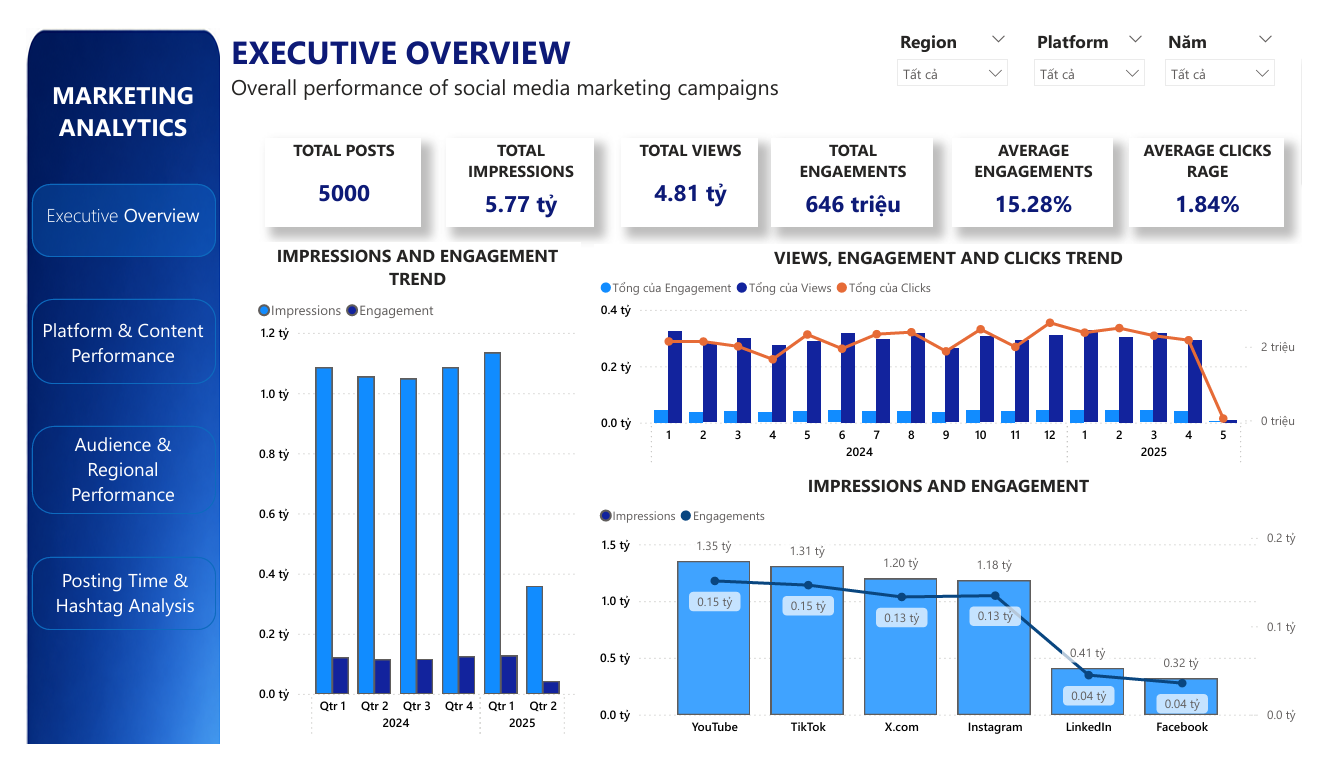

The dashboard page shown, as its layout file describes it:
{"tool":"powerbi","page":{"name":"Executive Overview","canvas":[1280,720],"ordinal":0},"visuals":[{"type":"card","title":"TOTAL POSTS","fields":{"Values":["Sheet1.Total Posts"]},"box":[244.2,115.4,155.8,88.5],"z":0},{"type":"card","title":"TOTAL IMPRESSIONS","fields":{"Values":["Sum(Sheet1.Impressions)"]},"box":[425,115.4,148.1,88.5],"z":1000},{"type":"card","title":"TOTAL VIEWS","fields":{"Values":["Sum(Sheet1.Views)"]},"box":[600,115.4,136.5,88.5],"z":2000},{"type":"card","title":"TOTAL ENGAEMENTS","fields":{"Values":["Sum(Sheet1.Engagement)"]},"box":[750,115.4,161.5,88.5],"z":3000},{"type":"card","title":"AVERAGE ENGAGEMENTS","fields":{"Values":["Sheet1.Average Engagement Rate"]},"box":[930.8,115.4,161.5,88.5],"z":4000},{"type":"card","title":"AVERAGE CLICKS RAGE","fields":{"Values":["Sheet1.Average CTR"]},"box":[1107.7,115.4,155.8,88.5],"z":5000},{"type":"clusteredColumnChart","title":"IMPRESSIONS AND ENGAGEMENT TREND","fields":{"Category":["Sheet1.Post_Published_At.Biến động.Phân cấp ngày tháng.Năm","Sheet1.Post_Published_At.Biến động.Phân cấp ngày tháng.Quý"],"Y":["Sum(Sheet1.Impressions)","Sum(Sheet1.Engagement)"]},"box":[230.8,219.2,328.8,501.9],"z":6000},{"type":"lineClusteredColumnComboChart","title":"IMPRESSIONS AND ENGAGEMENT ","fields":{"Category":["Sheet1.Platform"],"Y":["Sum(Sheet1.Impressions)"],"Y2":["Sum(Sheet1.Engagement)"]},"box":[573.1,448.9,707.3,271.7],"z":8000},{"type":"slicer","fields":{"Values":["Sheet1.Region"]},"box":[865.4,0,130.8,88.5],"z":9000},{"type":"slicer","fields":{"Values":["Sheet1.Platform"]},"box":[1001.9,0,130.8,88.5],"z":10000},{"type":"slicer","fields":{"Values":["Sheet1.Post_Published_At.Biến động.Phân cấp ngày tháng.Năm"]},"box":[1132.7,0,130.8,88.5],"z":11000},{"type":"textbox","box":[203.7,0,660.9,104.4],"z":12000},{"type":"image","box":[0,0,203.6,800],"z":13000},{"type":"textbox","box":[9.6,0,182.7,138.5],"z":14000},{"type":"shape","box":[9.6,159.6,184.6,73.1],"z":15000},{"type":"shape","box":[9.6,275,184.6,84.6],"z":16000},{"type":"shape","box":[9.6,401.9,184.6,88.5],"z":17000},{"type":"shape","box":[9.6,532.7,184.6,73.1],"z":18000},{"type":"textbox","box":[9.6,173.1,182.7,59.6],"z":19000},{"type":"textbox","box":[9.6,288.5,182.7,59.6],"z":20000},{"type":"textbox","box":[9.6,401.9,182.7,88.5],"z":21000},{"type":"textbox","box":[11.5,538.5,182.7,59.6],"z":22000},{"type":"lineClusteredColumnComboChart","title":"VIEWS, ENGAGEMENT AND CLICKS TREND","fields":{"Y":["Sum(Sheet1.Engagement)","Sum(Sheet1.Views)"],"Y2":["Sum(Sheet1.Clicks)"],"Category":["Sheet1.Post_Published_At.Biến động.Phân cấp ngày tháng.Năm","Sheet1.Month Number"]},"box":[573.2,221.4,707.1,228.6],"z":23000}]}

Visuals, with their boxes on the page's 1280x720 design canvas (x1, y1, x2, y2). These are canvas units, not pixel positions in the 1323x768 screenshot, which may show the page scaled, cropped or inside an application window:
"TOTAL POSTS" card: box(244, 115, 400, 204)
"TOTAL IMPRESSIONS" card: box(425, 115, 573, 204)
"TOTAL VIEWS" card: box(600, 115, 736, 204)
"TOTAL ENGAEMENTS" card: box(750, 115, 912, 204)
"AVERAGE ENGAGEMENTS" card: box(931, 115, 1092, 204)
"AVERAGE CLICKS RAGE" card: box(1108, 115, 1264, 204)
"IMPRESSIONS AND ENGAGEMENT TREND" clusteredColumnChart: box(231, 219, 560, 721)
"IMPRESSIONS AND ENGAGEMENT " lineClusteredColumnComboChart: box(573, 449, 1280, 721)
slicer - Sheet1.Region: box(865, 0, 996, 88)
slicer - Sheet1.Platform: box(1002, 0, 1133, 88)
slicer - Sheet1.Post_Published_At.Biến động.Phân cấp ngày tháng.Năm: box(1133, 0, 1264, 88)
textbox: box(204, 0, 865, 104)
image: box(0, 0, 204, 800)
textbox: box(10, 0, 192, 138)
shape: box(10, 160, 194, 233)
shape: box(10, 275, 194, 360)
shape: box(10, 402, 194, 490)
shape: box(10, 533, 194, 606)
textbox: box(10, 173, 192, 233)
textbox: box(10, 288, 192, 348)
textbox: box(10, 402, 192, 490)
textbox: box(12, 538, 194, 598)
"VIEWS, ENGAGEMENT AND CLICKS TREND" lineClusteredColumnComboChart: box(573, 221, 1280, 450)
